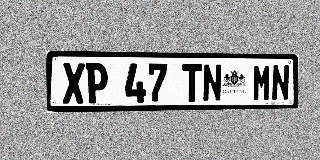4: (125, 63, 146, 103)
7: (147, 63, 167, 103)
M: (252, 64, 271, 101)
N: (202, 64, 222, 102), (271, 64, 290, 101)
P: (86, 63, 108, 103)
T: (182, 64, 202, 102)
X: (62, 63, 85, 104)
